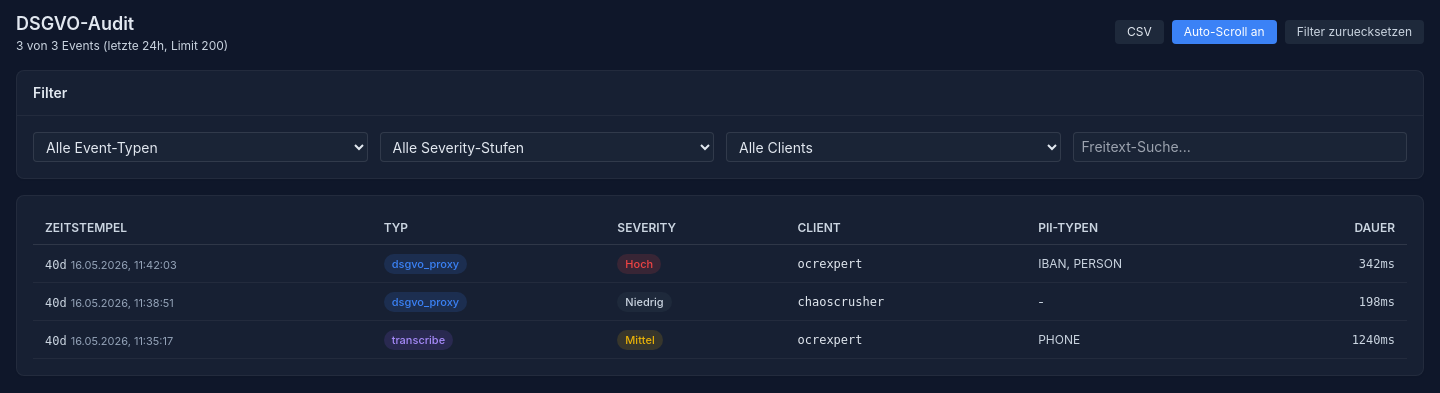
Test case: AuditTab › filtert nach client_id: nur ocrexpert-Events sichtbar
The image size is (1440, 393).
Check: the table with test id "audit-table" is shown, box [33, 212, 1407, 359]
Select "ocrexpert" in the dropdown with test id "audit-filter-client": (893, 147) [726, 132, 1060, 162]
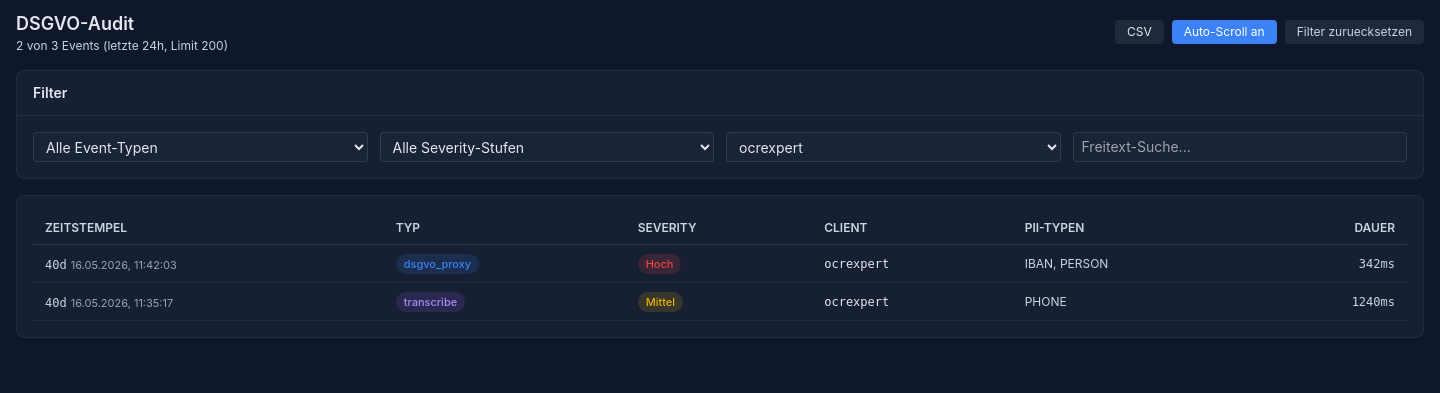
Check: the row with test id "audit-row-aaa-001" is shown, box [33, 244, 1407, 282]
Check: the row with test id "audit-row-bbb-002" is gone
